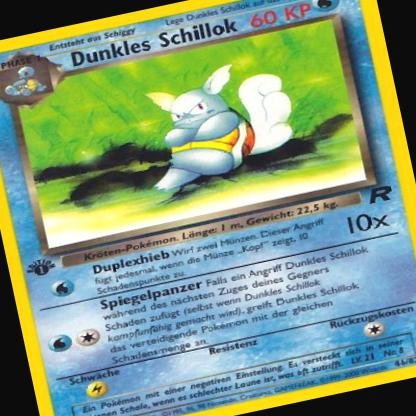Wartortle: (125, 52, 303, 197)
